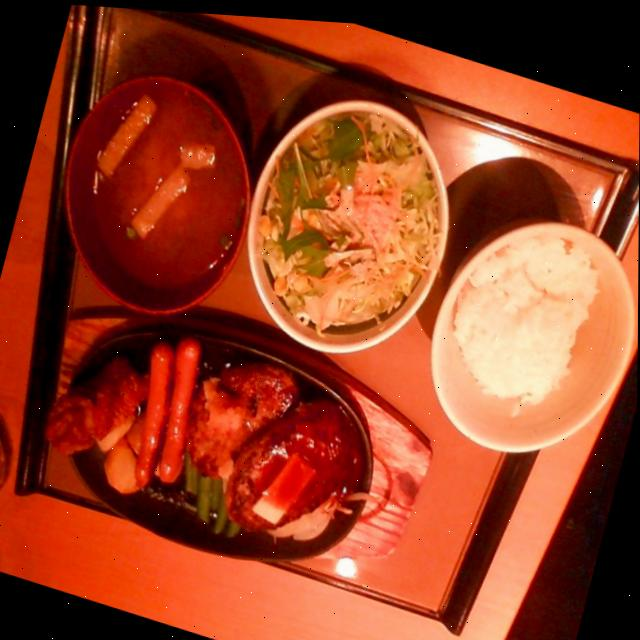汤锅炖物: (46, 54, 276, 318)
米饭主食: (432, 193, 634, 428)
蔬菜料理: (233, 75, 468, 373)
鸡肉料理 含炸鸡: (42, 347, 148, 465)
